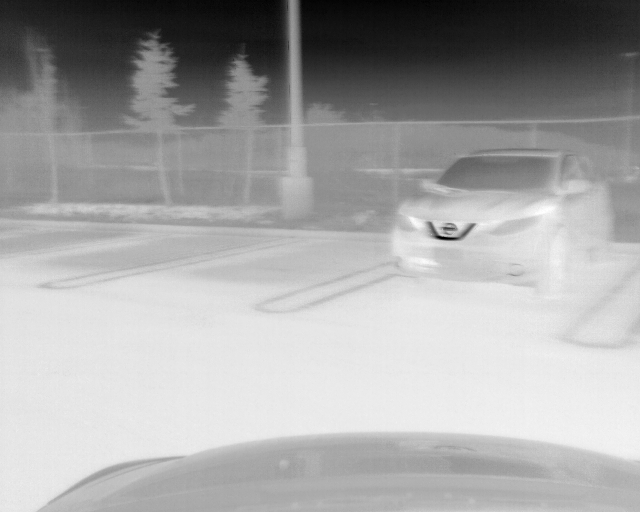car: (390, 146, 618, 298)
